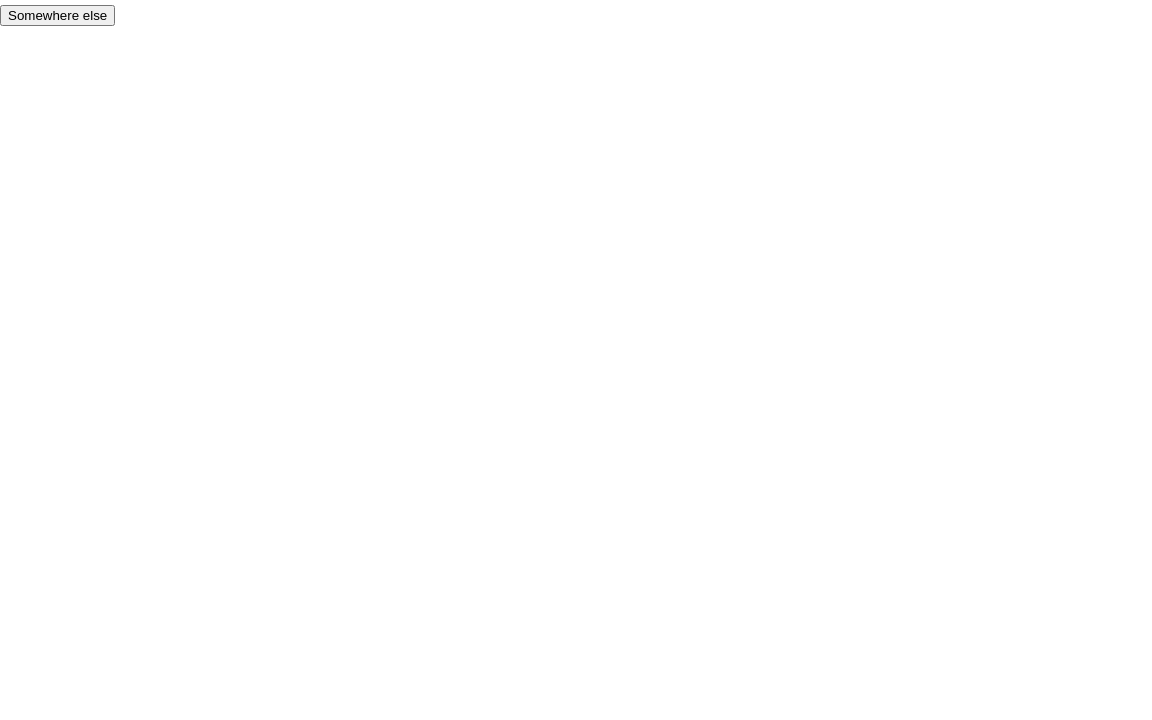
Scenario: CommandPalette › lists both routes and symbols, and filters by the typed query
Press k
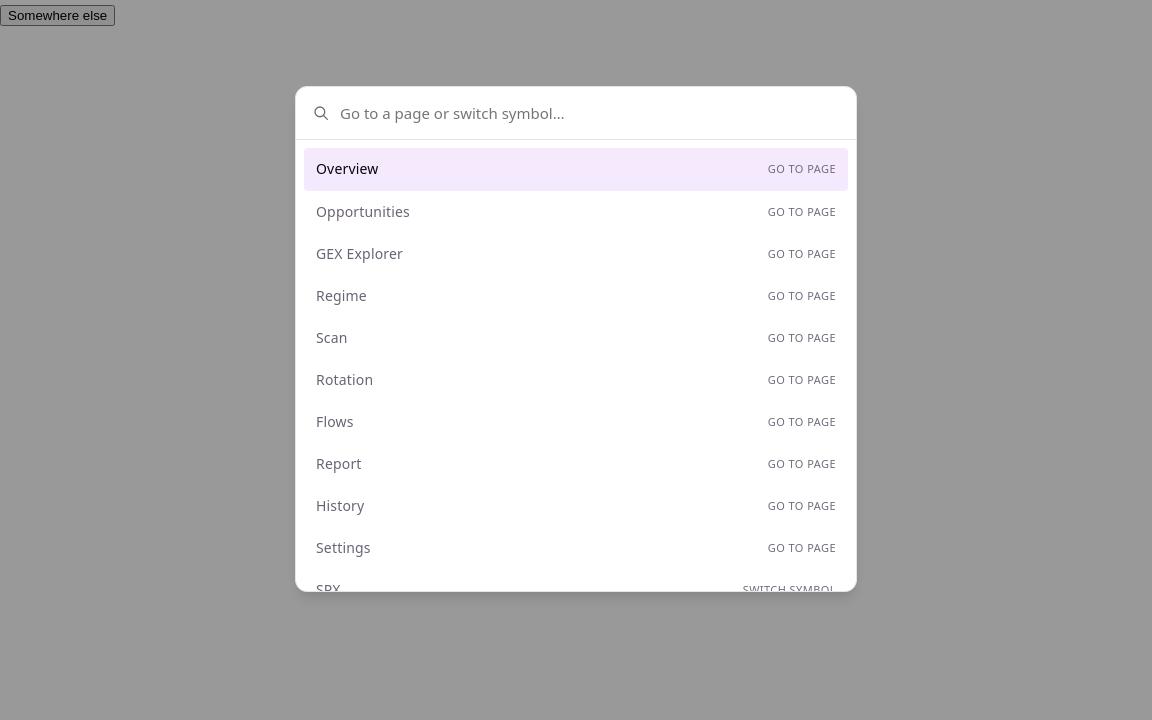
Expected: the option "GEX Explorer Go to page" is shown, [316,244,836,263]
Type "rot" into the dropdown at (589, 113), box [338,99,840,128]
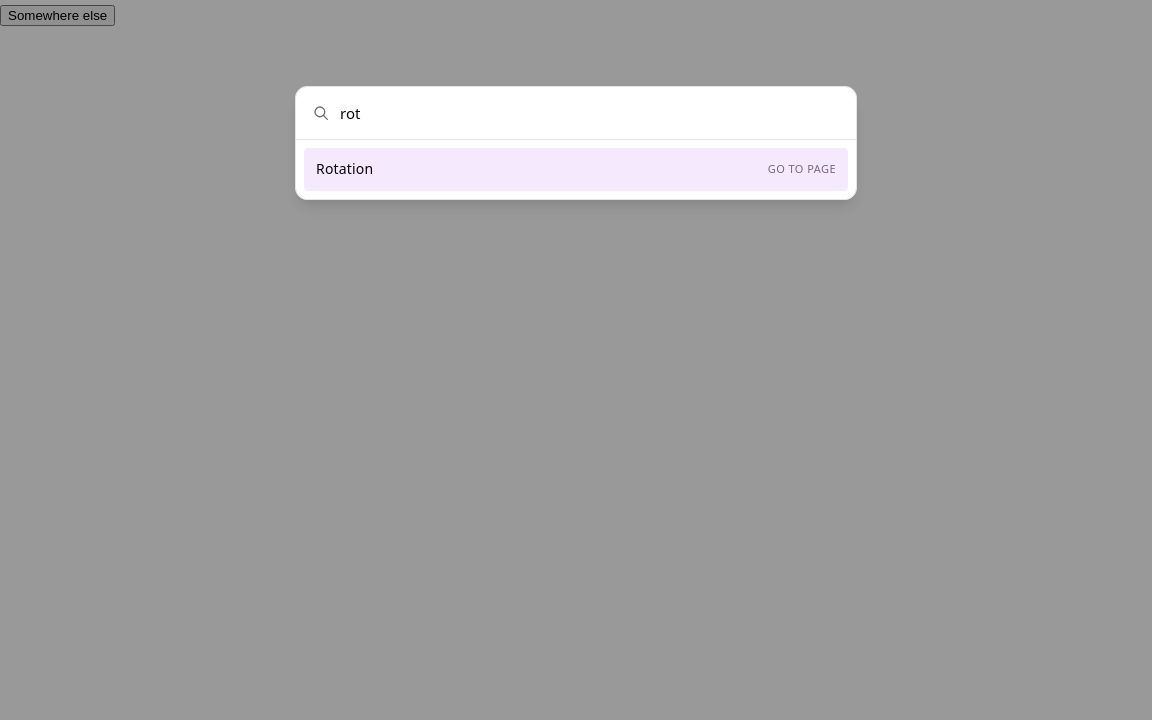
Expected: the option "Rotation Go to page" is shown, [304,148,848,191]
Expected: the option "GEX Explorer" is gone
